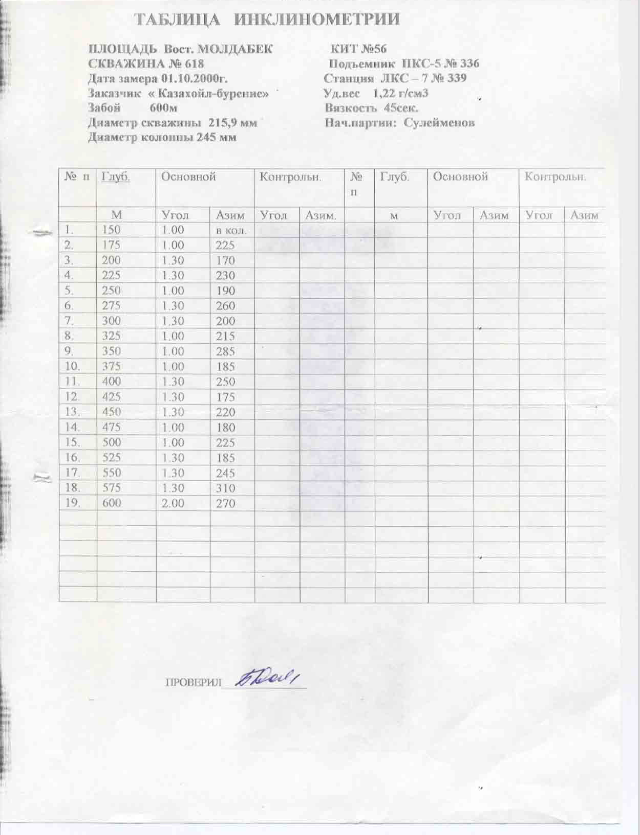Bordered: (56, 165, 614, 606)
